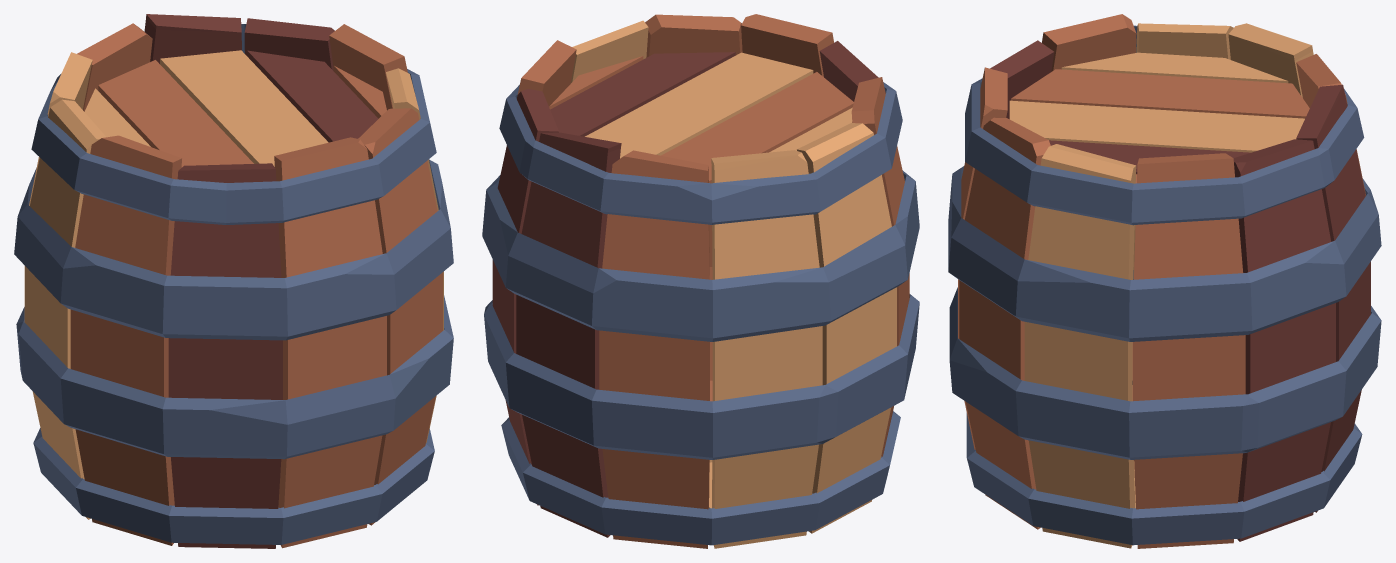
Rendered from Barrel 1_11b.fbx.
3 views of the same model, side by side, from view 1: azimuth 30°, elevation 25°; view 2: azimuth 150°, elevation 25°; view 3: azimuth 270°, elevation 25° (orthographic).
Visible parts, largest first — view 1: Barrel 1_11b.016, Barrel 1_11b.015, Barrel 1_11b.003, Barrel 1_11b.007, Barrel 1_11b.008, Barrel 1_11b.006, Barrel 1_11b.014, Barrel 1_11b.013, Barrel 1_11b.009, Barrel 1_11b.005, Barrel 1_11b.002, Barrel 1_11b.011 (+4 smaller); view 2: Barrel 1_11b.016, Barrel 1_11b.015, Barrel 1_11b.003, Barrel 1_11b.004, Barrel 1_11b.001, Barrel 1_11b.014, Barrel 1_11b.002, Barrel 1_11b.013, Barrel 1_11b.005, Barrel 1_11b.012, Barrel 1_11b.009, Barrel 1_11b.008 (+4 smaller); view 3: Barrel 1_11b.016, Barrel 1_11b.015, Barrel 1_11b.003, Barrel 1_11b.011, Barrel 1_11b.010, Barrel 1_11b.014, Barrel 1_11b.012, Barrel 1_11b.013, Barrel 1_11b.009, Barrel 1_11b.002, Barrel 1_11b.006, Barrel 1_11b.004 (+4 smaller).
Part boxes in pixels (x1=…): Barrel 1_11b.016: x1=14, y1=159, x2=453, y2=340; Barrel 1_11b.015: x1=16, y1=295, x2=453, y2=459; Barrel 1_11b.003: x1=84, y1=50, x2=386, y2=167; Barrel 1_11b.007: x1=168, y1=163, x2=282, y2=548; Barrel 1_11b.008: x1=274, y1=137, x2=386, y2=548; Barrel 1_11b.006: x1=70, y1=135, x2=181, y2=545; Barrel 1_11b.014: x1=31, y1=24, x2=436, y2=224; Barrel 1_11b.013: x1=33, y1=428, x2=434, y2=544; Barrel 1_11b.009: x1=358, y1=108, x2=442, y2=525; Barrel 1_11b.005: x1=25, y1=99, x2=106, y2=519; Barrel 1_11b.002: x1=144, y1=14, x2=241, y2=63; Barrel 1_11b.011: x1=329, y1=24, x2=407, y2=110; Barrel 1_11b.016: x1=482, y1=170, x2=919, y2=341; Barrel 1_11b.015: x1=484, y1=294, x2=919, y2=459; Barrel 1_11b.003: x1=549, y1=52, x2=853, y2=183; Barrel 1_11b.004: x1=711, y1=150, x2=822, y2=548; Barrel 1_11b.001: x1=599, y1=150, x2=709, y2=548; Barrel 1_11b.014: x1=499, y1=82, x2=902, y2=224; Barrel 1_11b.002: x1=516, y1=132, x2=621, y2=537; Barrel 1_11b.013: x1=501, y1=411, x2=900, y2=545; Barrel 1_11b.005: x1=797, y1=123, x2=896, y2=533; Barrel 1_11b.012: x1=492, y1=89, x2=558, y2=505; Barrel 1_11b.009: x1=645, y1=14, x2=742, y2=380; Barrel 1_11b.008: x1=741, y1=14, x2=833, y2=76; Barrel 1_11b.016: x1=948, y1=166, x2=1381, y2=341; Barrel 1_11b.015: x1=949, y1=270, x2=1381, y2=459; Barrel 1_11b.003: x1=1009, y1=52, x2=1309, y2=183; Barrel 1_11b.011: x1=1133, y1=153, x2=1245, y2=548; Barrel 1_11b.010: x1=1024, y1=144, x2=1136, y2=548; Barrel 1_11b.014: x1=965, y1=25, x2=1364, y2=225; Barrel 1_11b.012: x1=1233, y1=139, x2=1335, y2=541; Barrel 1_11b.013: x1=966, y1=413, x2=1362, y2=545; Barrel 1_11b.009: x1=959, y1=117, x2=1050, y2=529; Barrel 1_11b.002: x1=1296, y1=84, x2=1370, y2=512; Barrel 1_11b.006: x1=1042, y1=14, x2=1136, y2=380; Barrel 1_11b.004: x1=1228, y1=23, x2=1313, y2=97.
Size of the model in its own units: 92.04 by 90.18 by 91.1.
